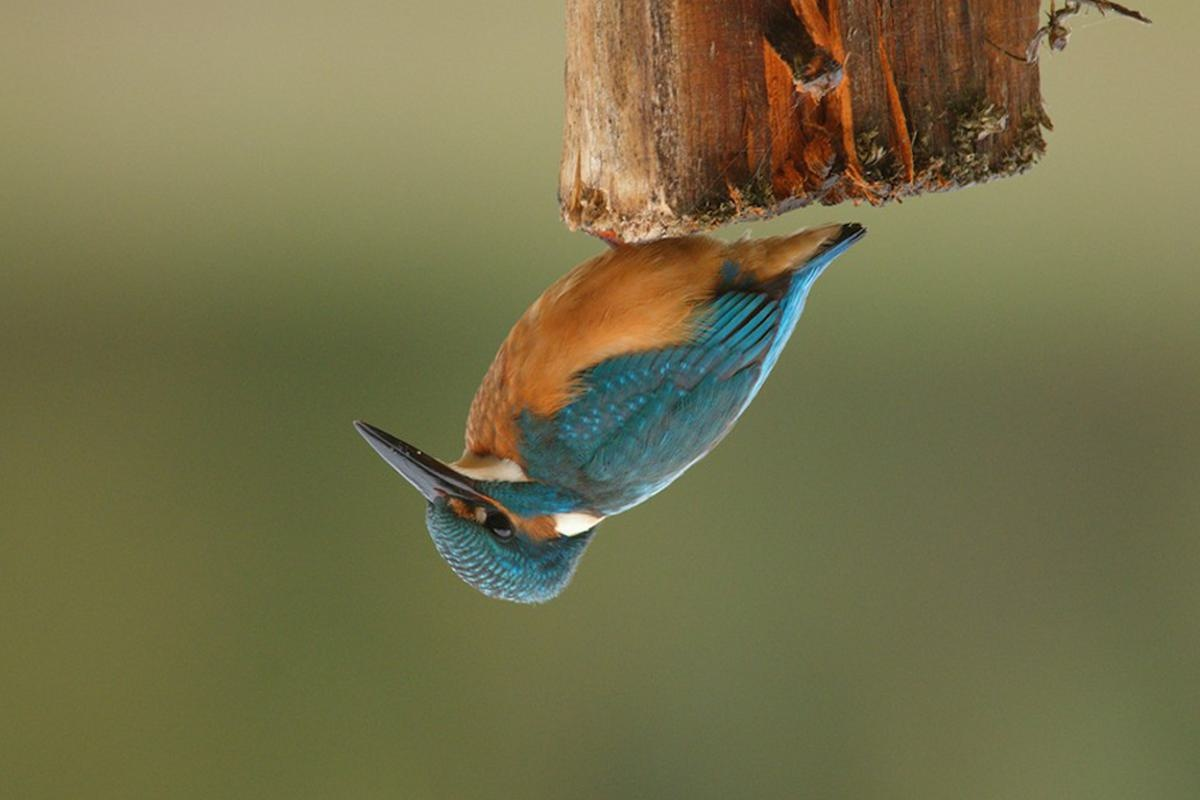kingfisher: (344, 190, 885, 609)
